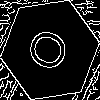O: (25, 25, 79, 78)
